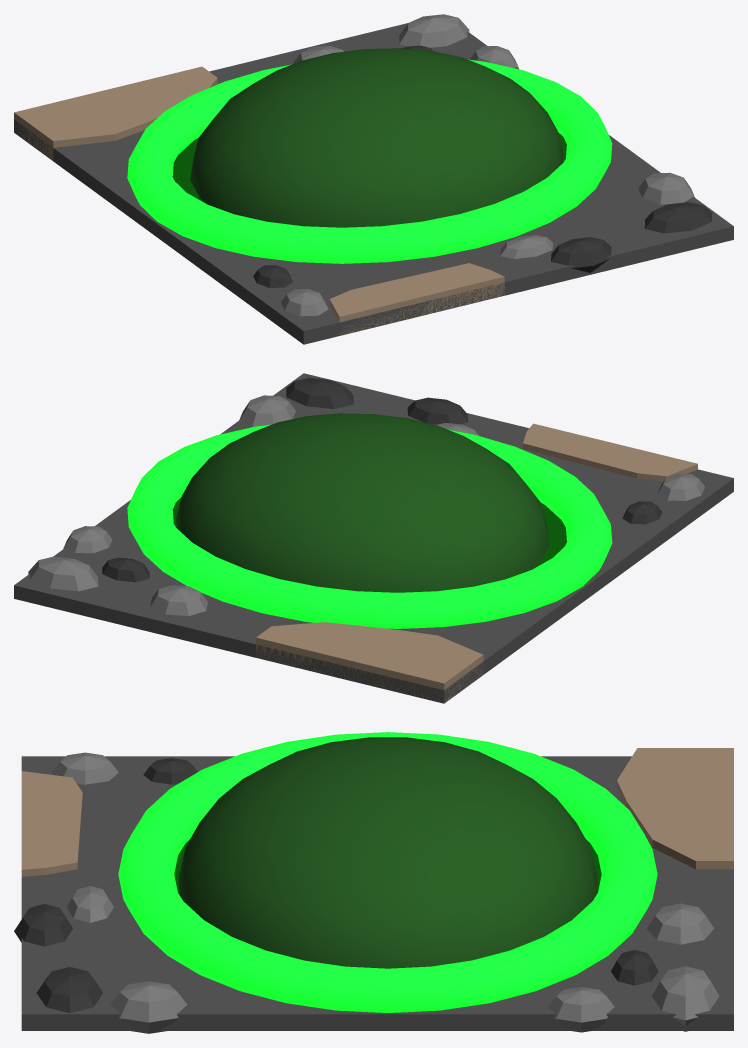
The model's file is newsha-17.glb.
3 views of the same model, one above another, from view 1: azimuth 30°, elevation 25°; view 2: azimuth 150°, elevation 25°; view 3: azimuth 270°, elevation 25° (orthographic). The views are drawn at different scales.
Parts seen in each view (by area): view 1: newsha-17; view 2: newsha-17; view 3: newsha-17.
Part boxes in pixels (box(x1,y1,x2,y2)): newsha-17: box(14, 14, 733, 344); newsha-17: box(14, 373, 733, 703); newsha-17: box(14, 732, 733, 1033).
Bounding box in the file's own units: 2.05 × 0.52 × 2.36.
